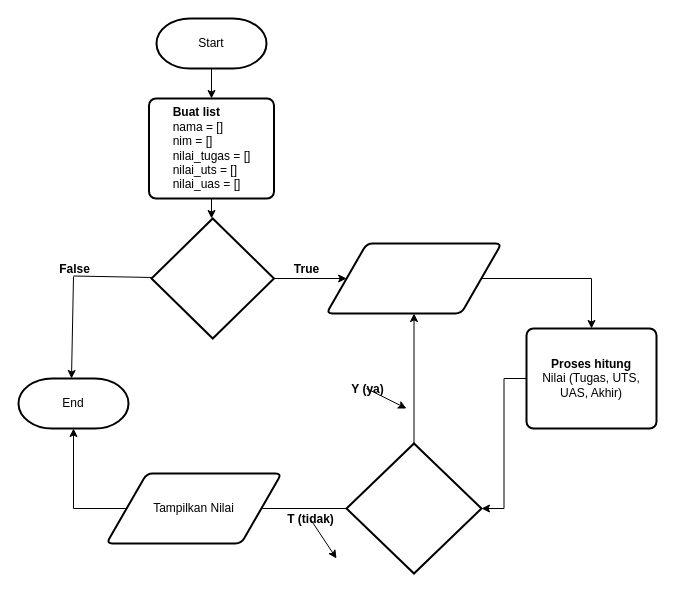
The diagram is 674 pixels wide and 591 high, and some of its shapes have lost their labels. The shapes that lost their labels are listed below. From the top down, each one's centre as x and y in pixels, then its label:
point (212, 278): While true
point (413, 278): Input data variabel (Append)
point (413, 508): input("Tambah data (y/t)?")
